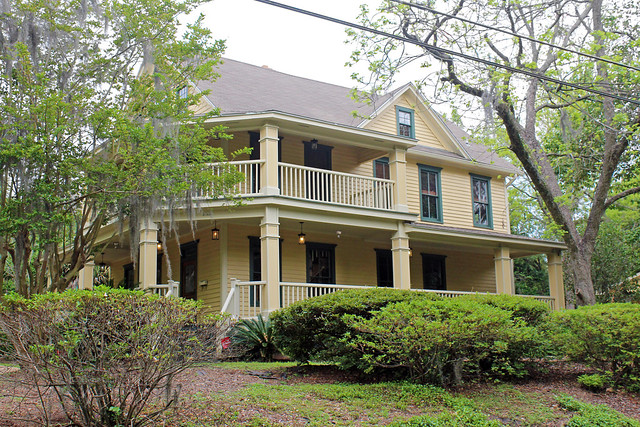medium: (56, 35, 572, 362)
